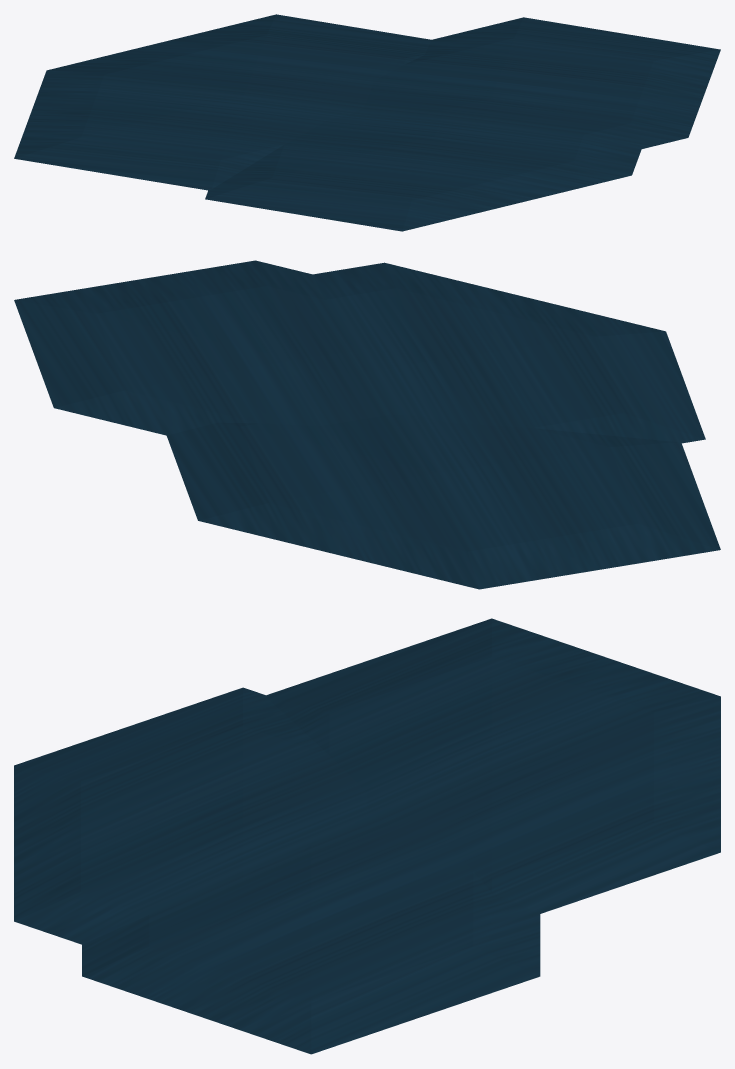
File: PROP-B23E778664CA_lod2.glb
3 views of the same model, one above another, from view 1: azimuth 30°, elevation 25°; view 2: azimuth 150°, elevation 25°; view 3: azimuth 270°, elevation 25° (orthographic). The views are drawn at different scales.
Parts seen in each view (by area): view 1: surface_hazard.008; view 2: surface_hazard.008; view 3: surface_hazard.008.
Boxes of the visible parts, x1=… form: surface_hazard.008: x1=14, y1=14, x2=720, y2=231; surface_hazard.008: x1=14, y1=260, x2=720, y2=589; surface_hazard.008: x1=14, y1=618, x2=720, y2=1054.
Bounding box in the file's own units: 1.68 × 0.036 × 1.15.
Materials: 1 (1 with a texture image).
